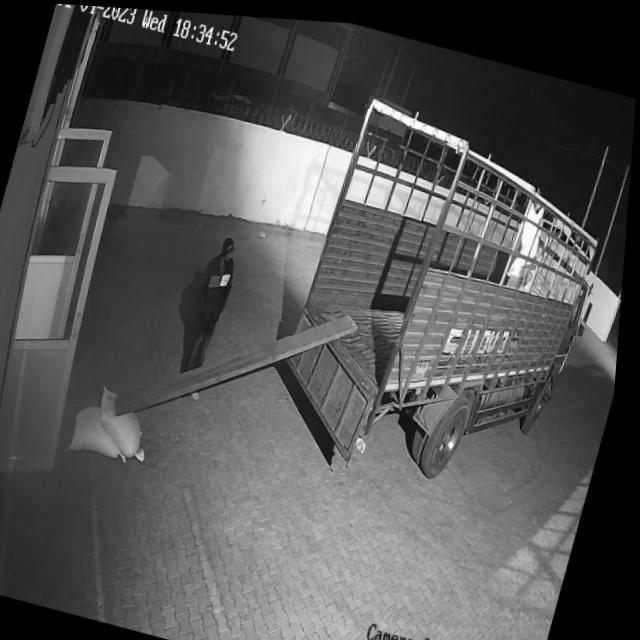sack: (92, 381, 167, 462), (73, 399, 144, 461), (514, 189, 553, 261)
